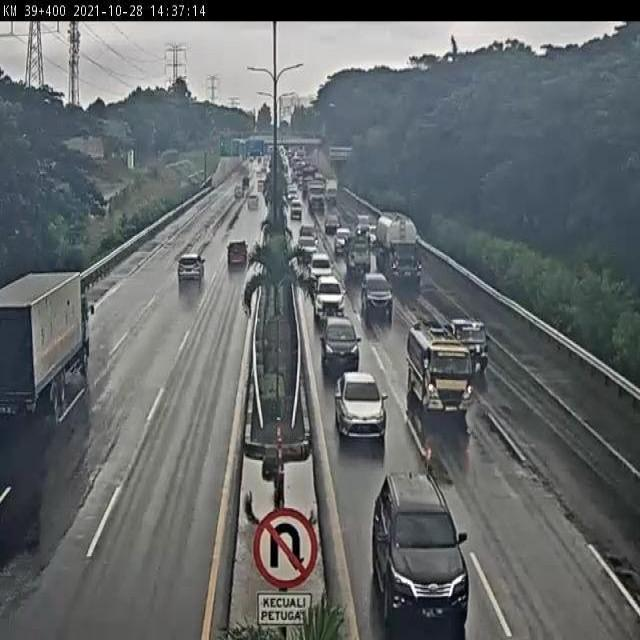big truck: (0, 272, 91, 415), (377, 213, 423, 284)
car: (373, 472, 470, 625), (336, 372, 388, 440), (451, 317, 496, 388), (320, 314, 360, 374), (361, 272, 393, 319), (313, 276, 346, 320), (309, 254, 333, 286), (179, 254, 205, 282), (297, 235, 318, 260), (227, 239, 248, 264), (354, 214, 371, 238), (335, 228, 352, 252), (325, 215, 341, 233), (289, 198, 302, 218), (248, 196, 259, 208)
small truck: (408, 320, 472, 419), (346, 236, 372, 275)
